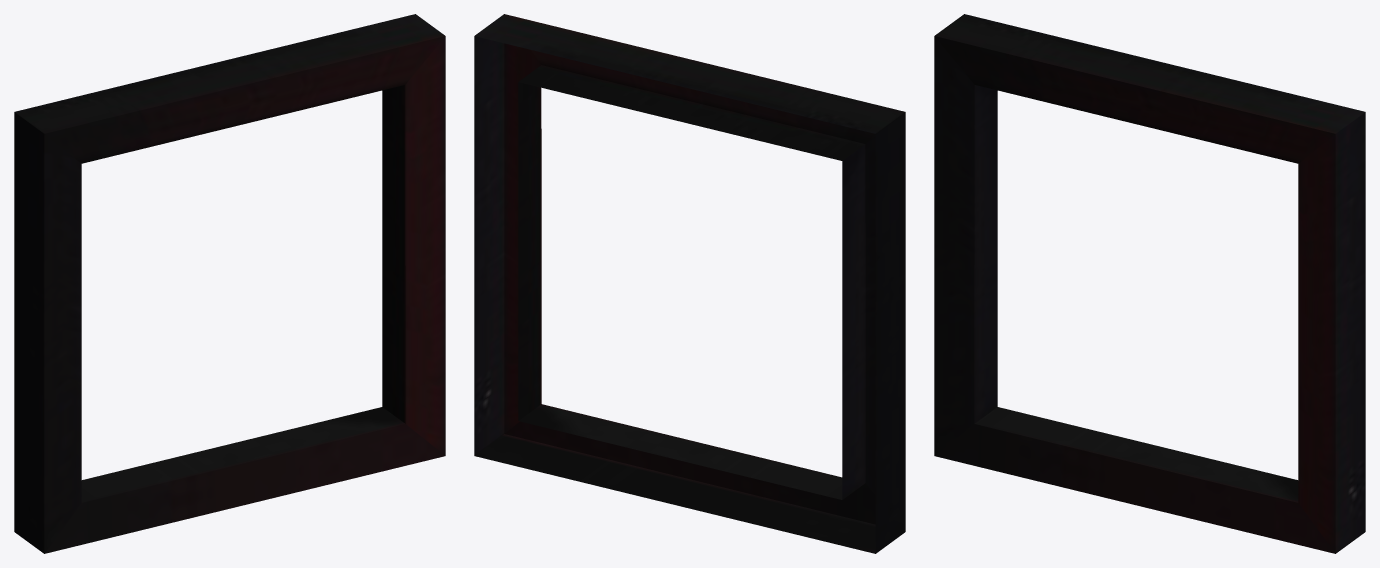
Rendered from brique_frame.glb.
3 renders of one model, left to right at view 1: azimuth 30°, elevation 25°; view 2: azimuth 150°, elevation 25°; view 3: azimuth 330°, elevation 25°, orthographic.
Parts seen in each view (by area): view 1: brique_frame; view 2: brique_frame; view 3: brique_frame.
Boxes of the visible parts, bbox=[...] form: brique_frame: bbox=[14, 14, 445, 553]; brique_frame: bbox=[474, 14, 905, 553]; brique_frame: bbox=[934, 14, 1365, 553].
Size of the model in its own units: 2.22 by 2.22 by 0.2884.
1 material, 1 textured.
